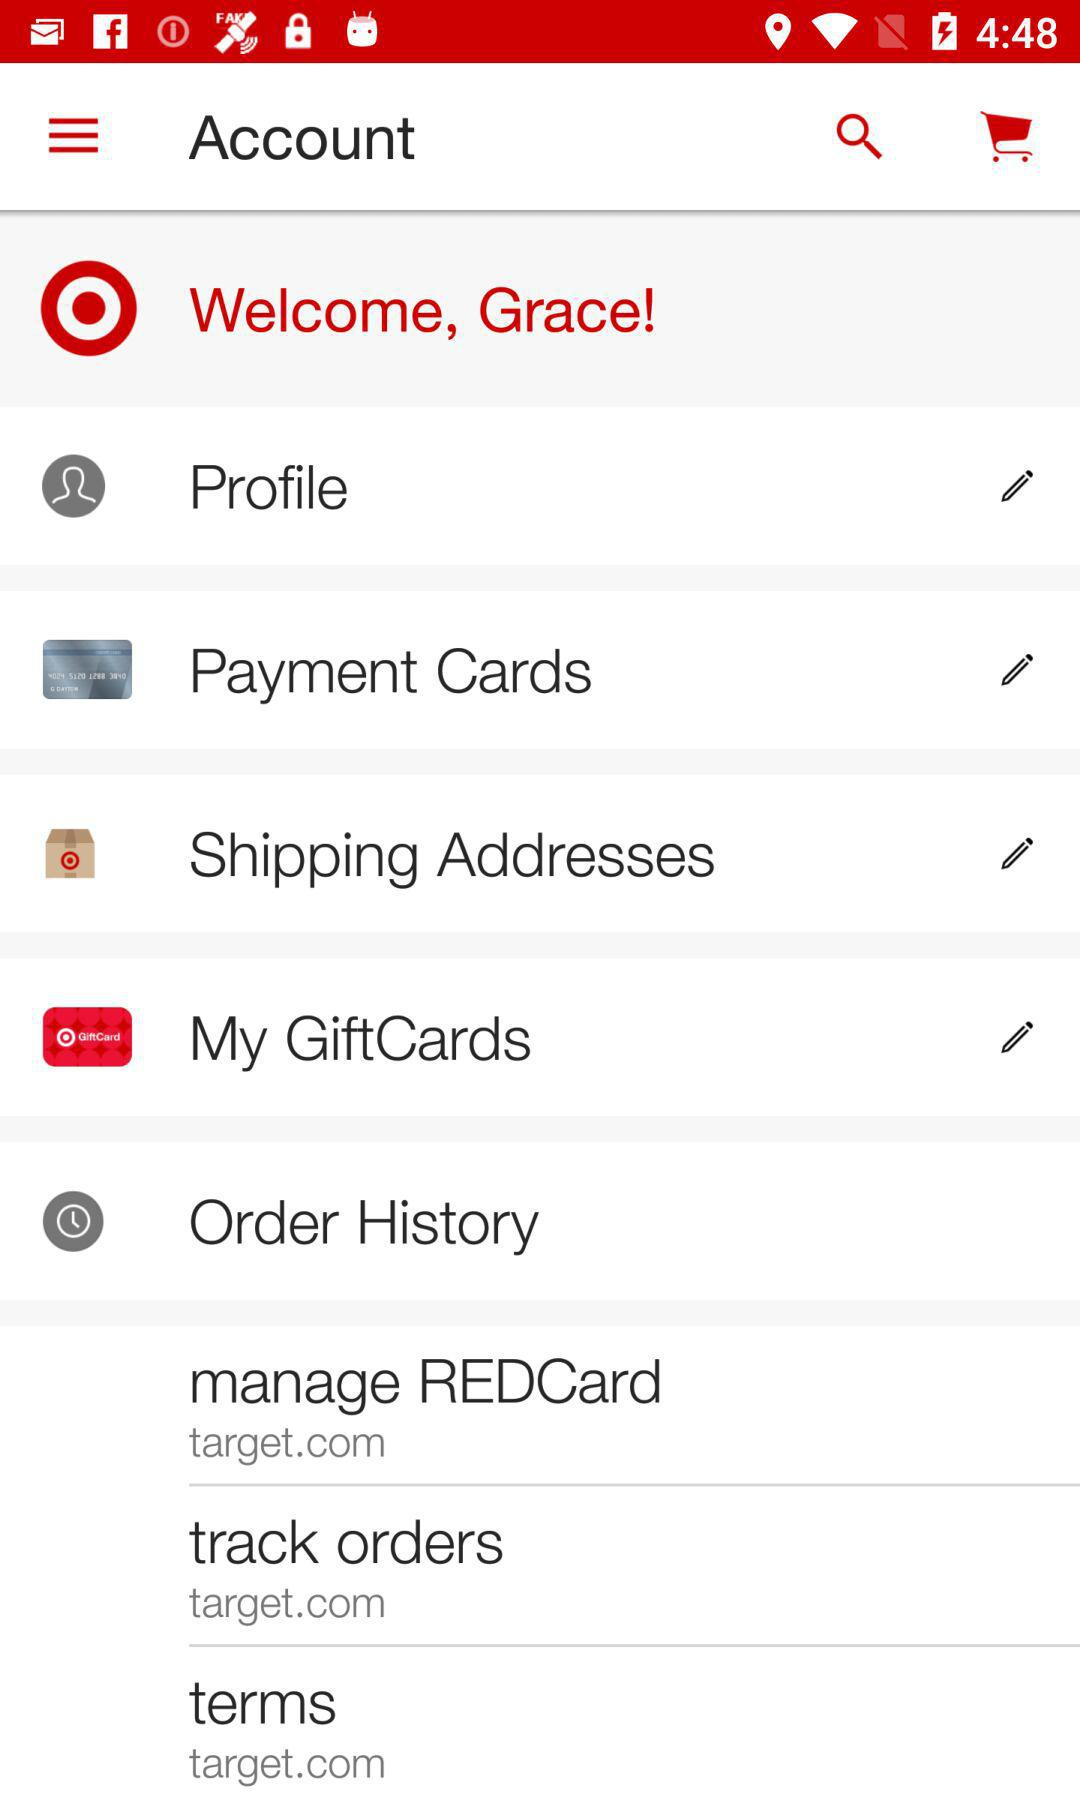Icon: (42, 455, 108, 520), (44, 1190, 106, 1253), (980, 111, 1034, 164), (837, 114, 883, 161), (47, 117, 100, 155), (1001, 837, 1035, 871), (1001, 469, 1034, 504), (1001, 1021, 1034, 1055), (1001, 654, 1034, 687)
Image: (58, 256, 120, 354), (44, 1006, 135, 1067), (42, 639, 135, 700), (46, 828, 97, 879)
Text: (191, 830, 716, 891), (191, 1357, 661, 1417), (190, 286, 653, 342), (192, 648, 592, 706), (190, 1198, 541, 1257), (193, 1015, 532, 1073), (190, 1518, 503, 1566), (190, 115, 416, 161), (190, 1748, 386, 1788), (190, 1588, 386, 1627), (190, 1428, 386, 1467), (193, 465, 348, 513), (190, 1681, 337, 1725)
Toolbar: (3, 67, 1080, 213)
UpperTaskBar: (1, 1, 1080, 64)
